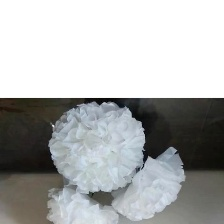tissue: (42, 97, 151, 196), (106, 142, 191, 224), (42, 181, 125, 223)
